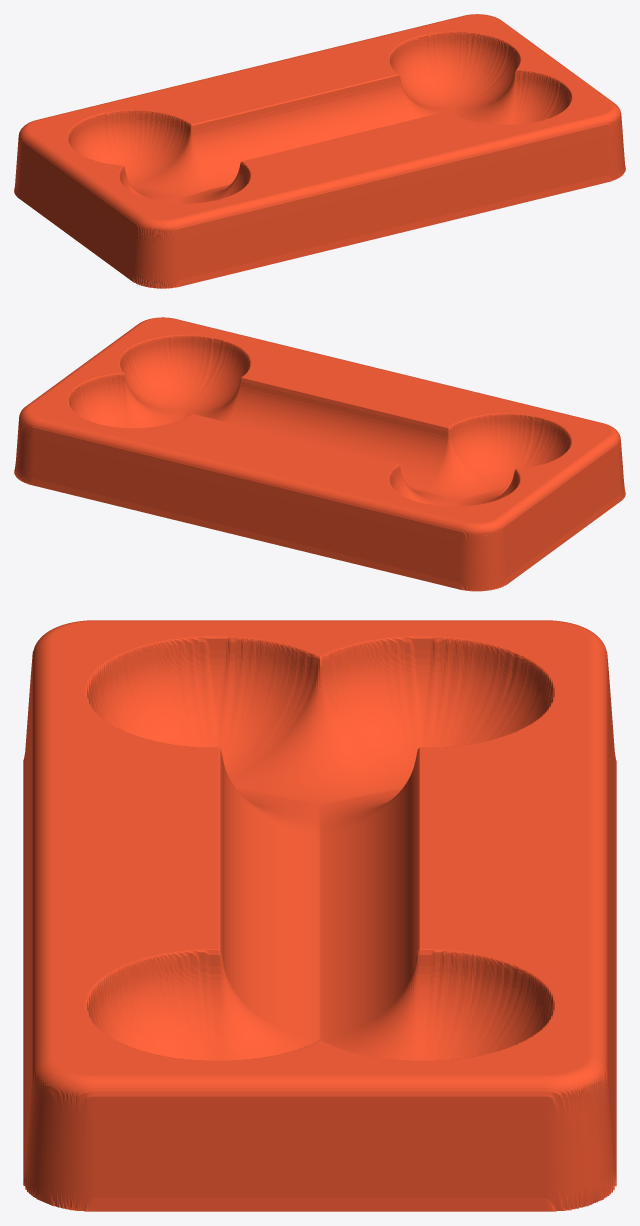
The model's file is mold.glb.
3 views of the same model, one above another, from view 1: azimuth 30°, elevation 25°; view 2: azimuth 150°, elevation 25°; view 3: azimuth 270°, elevation 25° (orthographic). The views are drawn at different scales.
Parts seen in each view (by area): view 1: geometry_0; view 2: geometry_0; view 3: geometry_0.
Part boxes in pixels (x1,y1,x2,y2): geometry_0: [14, 14, 625, 288]; geometry_0: [14, 317, 625, 591]; geometry_0: [23, 620, 616, 1211].
Size of the model in its own units: 0.1435 by 0.0175 by 0.0754.
